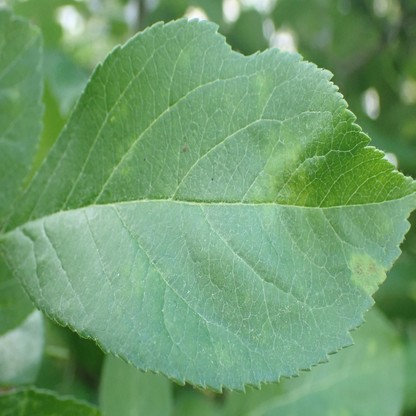scab: (255, 132, 308, 208), (350, 253, 386, 293), (257, 71, 273, 105), (115, 138, 134, 161), (177, 47, 191, 67)
